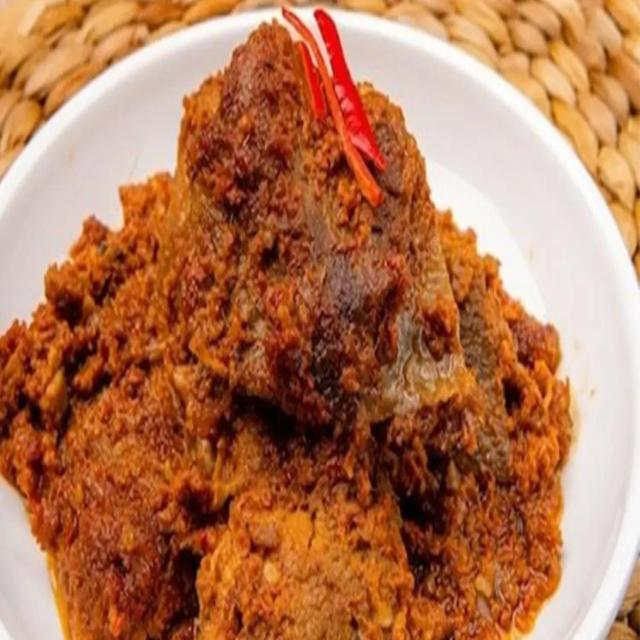Rendang: (0, 40, 563, 640)
